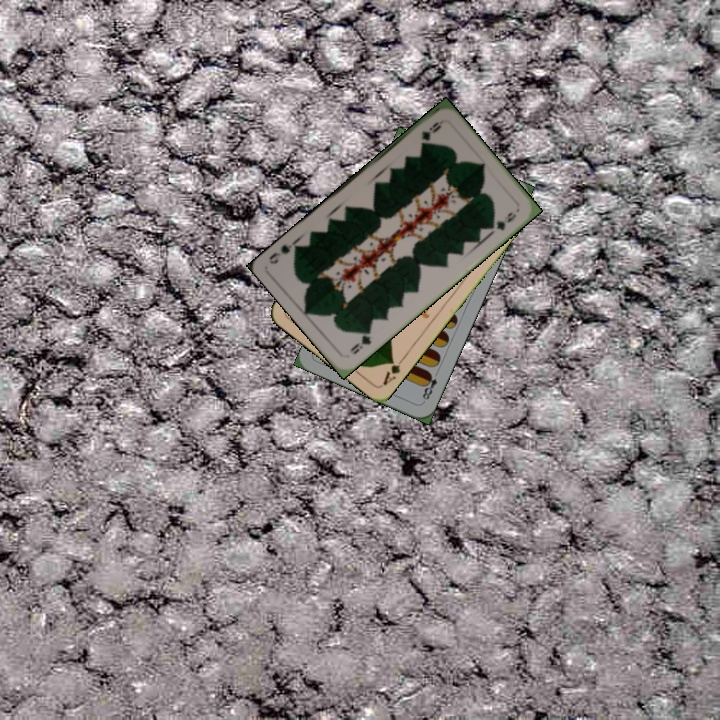E8: (418, 367, 442, 405)
G9: (346, 325, 374, 357), (417, 118, 444, 143)
GA: (378, 353, 408, 388)
